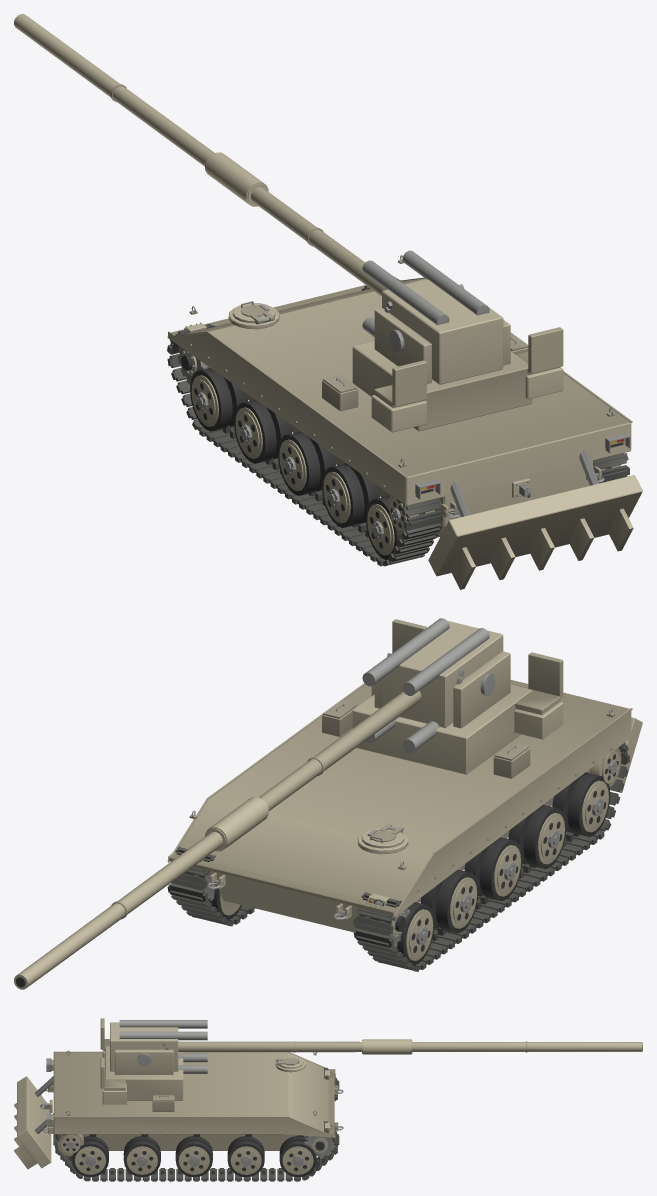
File: usa_spg_m107.glb
3 views of the same model, one above another, from view 1: azimuth 30°, elevation 25°; view 2: azimuth 150°, elevation 25°; view 3: azimuth 270°, elevation 25° (orthographic). The views are drawn at different scales.
Parts seen in each view (by area): view 1: body, barrel, turret; view 2: body, barrel, turret; view 3: body, barrel, turret.
Part boxes in pixels (bbox=[...]): body: bbox=[167, 255, 642, 589]; barrel: bbox=[14, 14, 503, 384]; turret: bbox=[352, 284, 532, 431]; body: bbox=[167, 619, 642, 971]; barrel: bbox=[14, 618, 503, 989]; turret: bbox=[352, 651, 531, 774]; body: bbox=[14, 1018, 343, 1181]; barrel: bbox=[110, 1020, 642, 1073]; turret: bbox=[105, 1042, 183, 1100].
Bounding box in the file's own units: 3.19 × 2.78 × 12.87.
